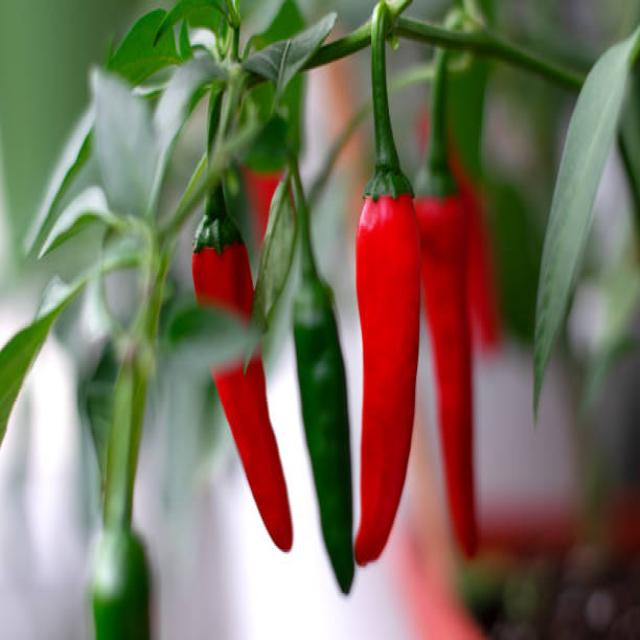Ripe: (191, 241, 292, 551), (355, 193, 420, 565)
Unripe: (294, 278, 353, 593)
